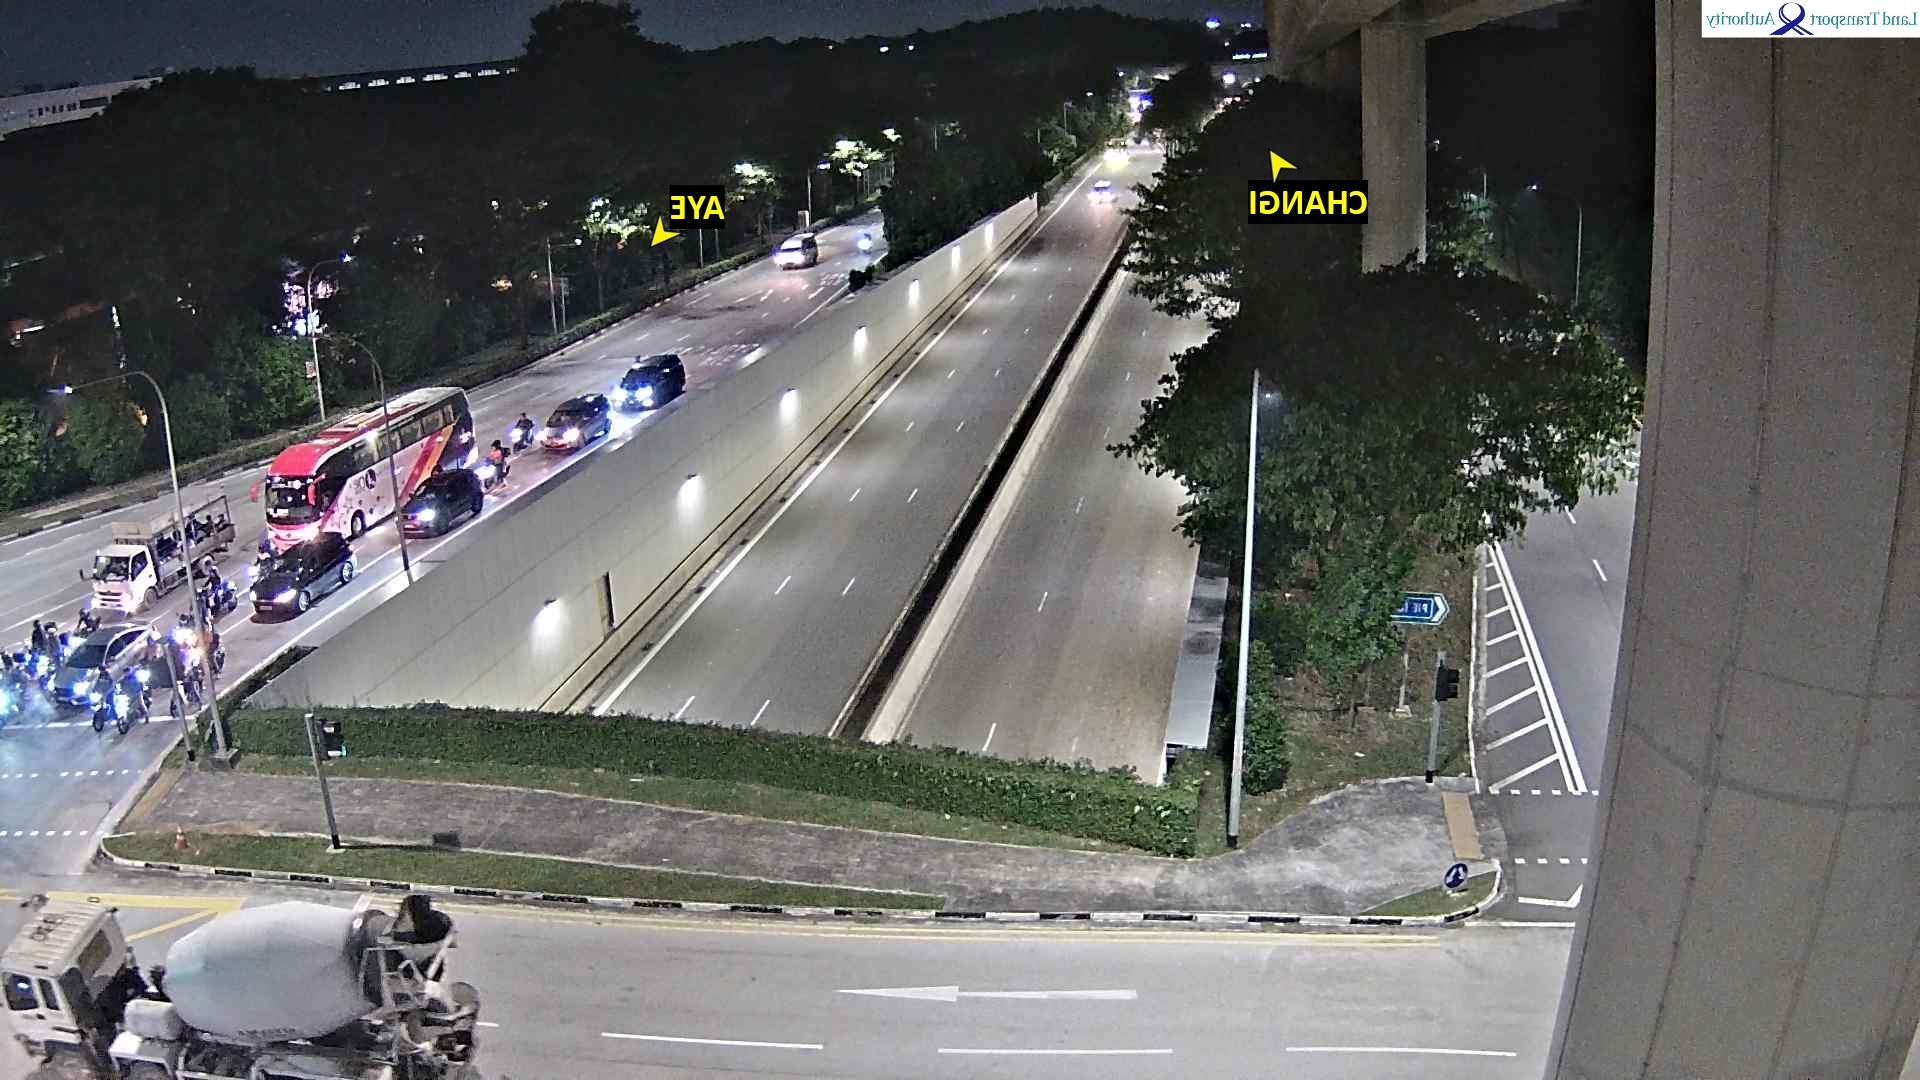incoming: (247, 465, 335, 551), (73, 546, 152, 615), (59, 638, 117, 712), (253, 553, 313, 620), (398, 476, 448, 534), (611, 369, 665, 411), (533, 410, 583, 452), (112, 692, 136, 733), (769, 245, 804, 272), (1083, 181, 1117, 206), (86, 691, 105, 732), (189, 583, 212, 616), (472, 462, 496, 495), (505, 427, 527, 452), (855, 235, 870, 253)
